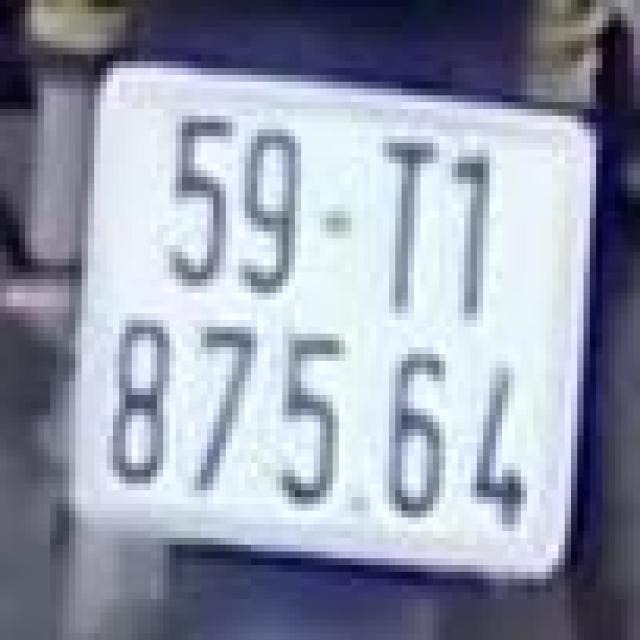1: (455, 140, 499, 330)
4: (461, 354, 543, 552)
5: (264, 317, 345, 514), (157, 102, 238, 293)
6: (380, 340, 455, 538)
7: (185, 316, 260, 500)
8: (94, 310, 182, 514)
9: (242, 112, 310, 303)
T: (373, 119, 442, 317)
